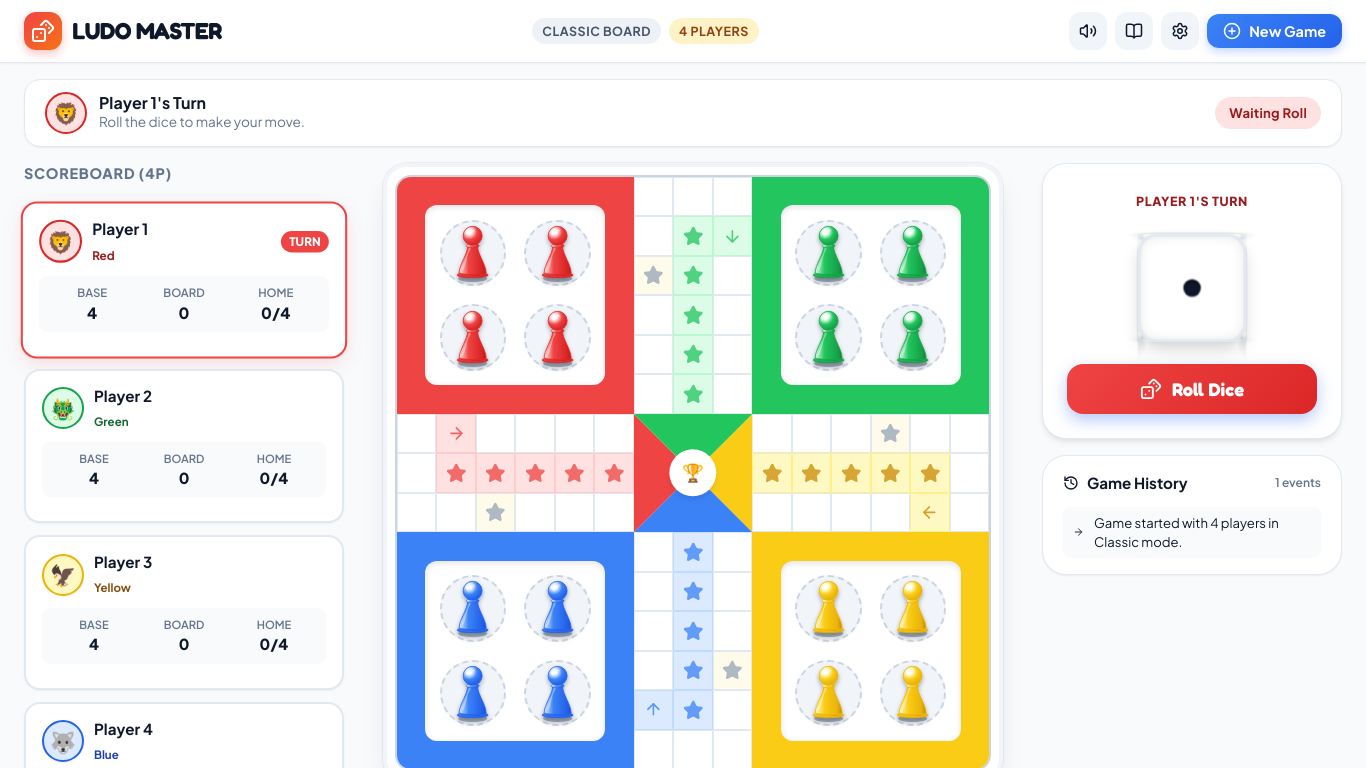
App Full Integration Tests › renders movement speed configuration in settings modal
Note: Open settings modal
What coordinates should you click on to do the following:
click the button named "Settings"
I would click on:
 (1180, 31)
Its box is [1161,12,1199,50].
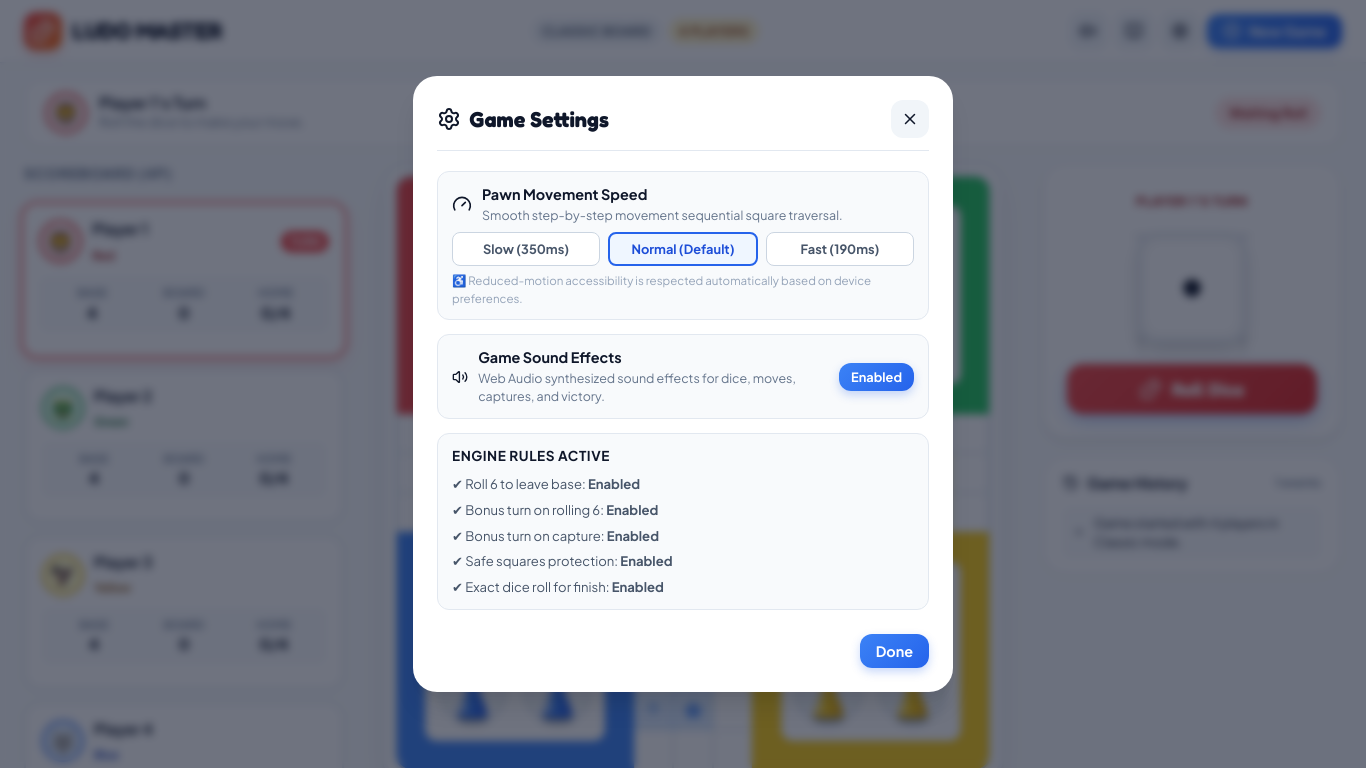
Check: the heading "Pawn Movement Speed" is shown, box [482,185,647,203]
Check: the button "Normal (Default)" is shown, box [608,232,758,266]
Check: the button "Slow (350ms)" is shown
Note: Select Slow speed
What coordinates should you click on to do the following:
click the button "Slow (350ms)"
I would click on:
 (526, 250)
Its box is [452,232,600,266].
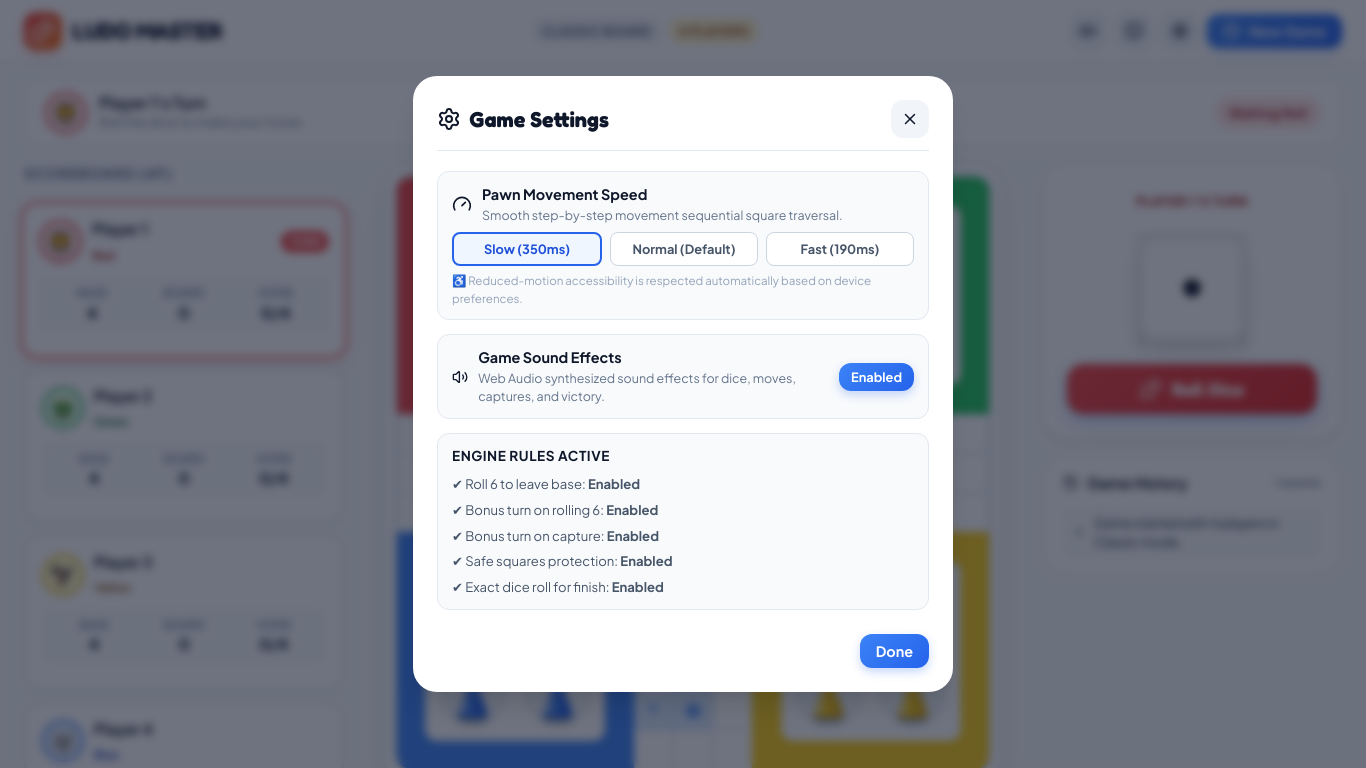
Note: Close modal
What coordinates should you click on to do the following:
click the button "Done"
I would click on:
 (894, 651)
Its box is [860,634,929,668].
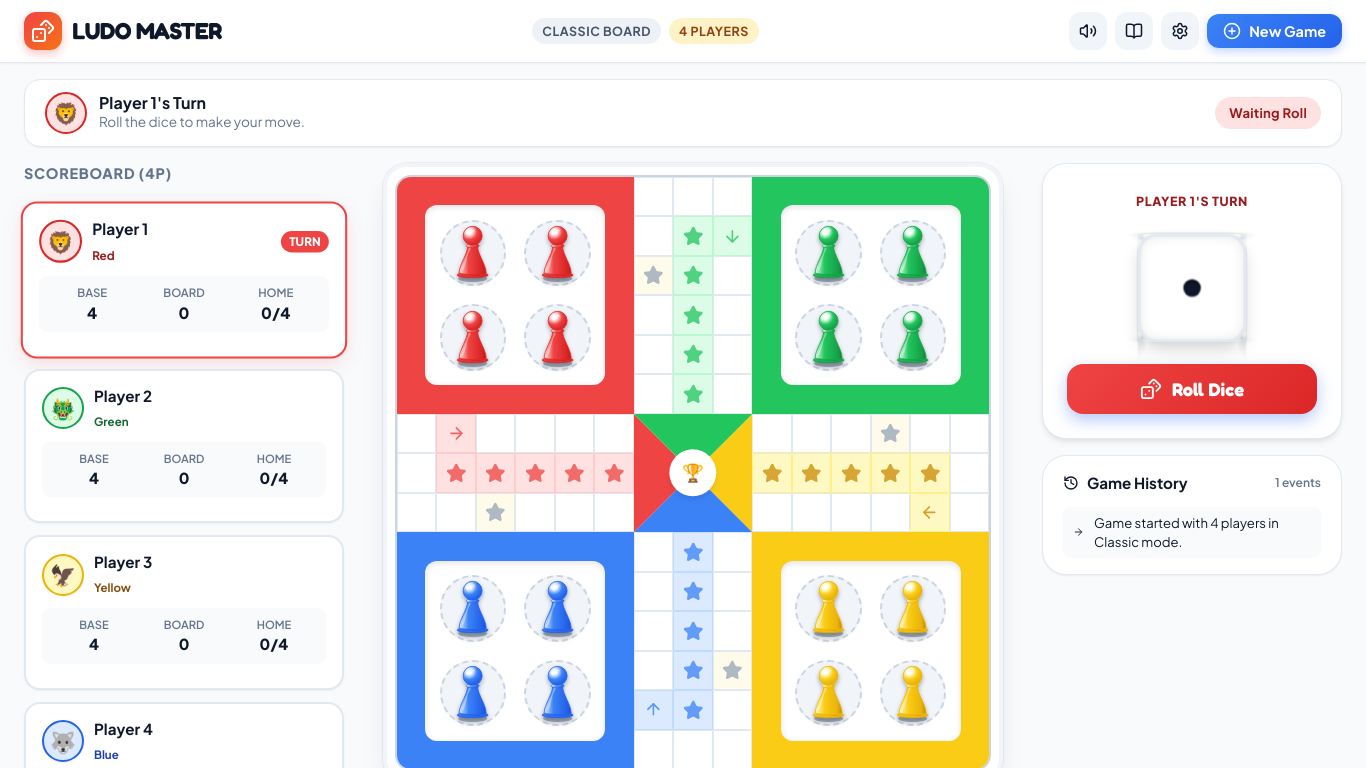
Check: the heading "Pawn Movement Speed" is gone
